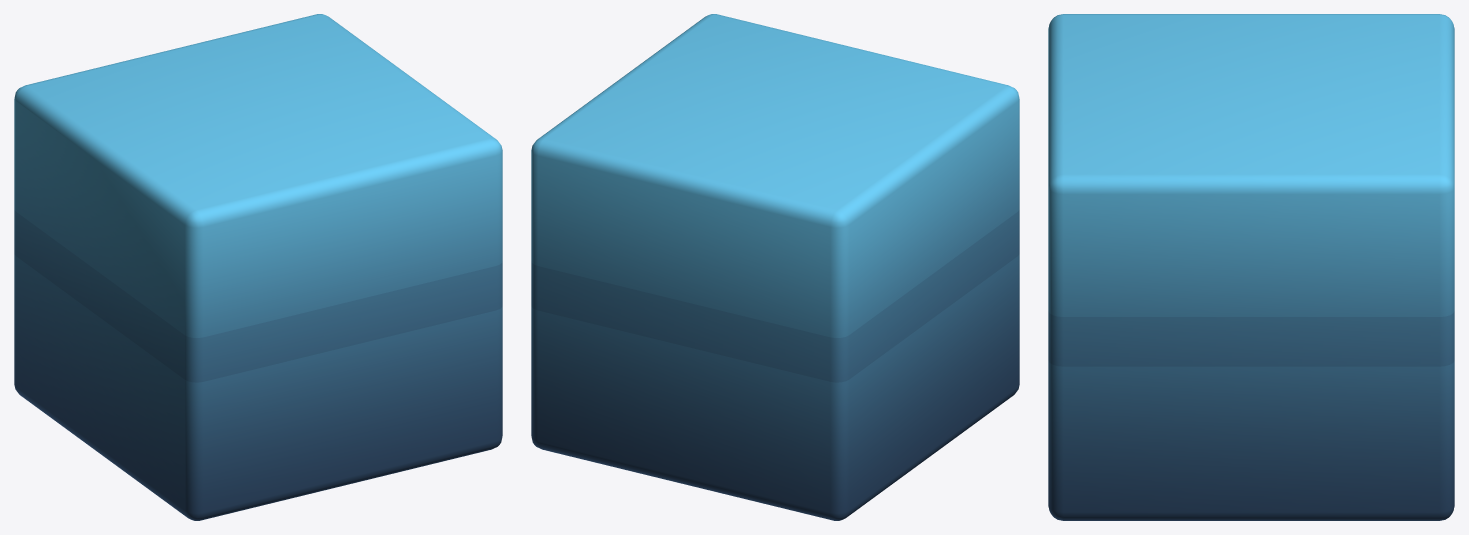
3 views of the same model, side by side, from view 1: azimuth 30°, elevation 25°; view 2: azimuth 150°, elevation 25°; view 3: azimuth 270°, elevation 25° (orthographic). The views are drawn at different scales.
Visible parts, largest first — view 1: Cube_15; view 2: Cube_15; view 3: Cube_15.
Boxes of the visible parts, box(x1,y1,x2,y2) form: Cube_15: box(14, 14, 502, 520); Cube_15: box(531, 14, 1019, 520); Cube_15: box(1048, 14, 1454, 520).
Size of the model in its own units: 2 by 1.88 by 2.
